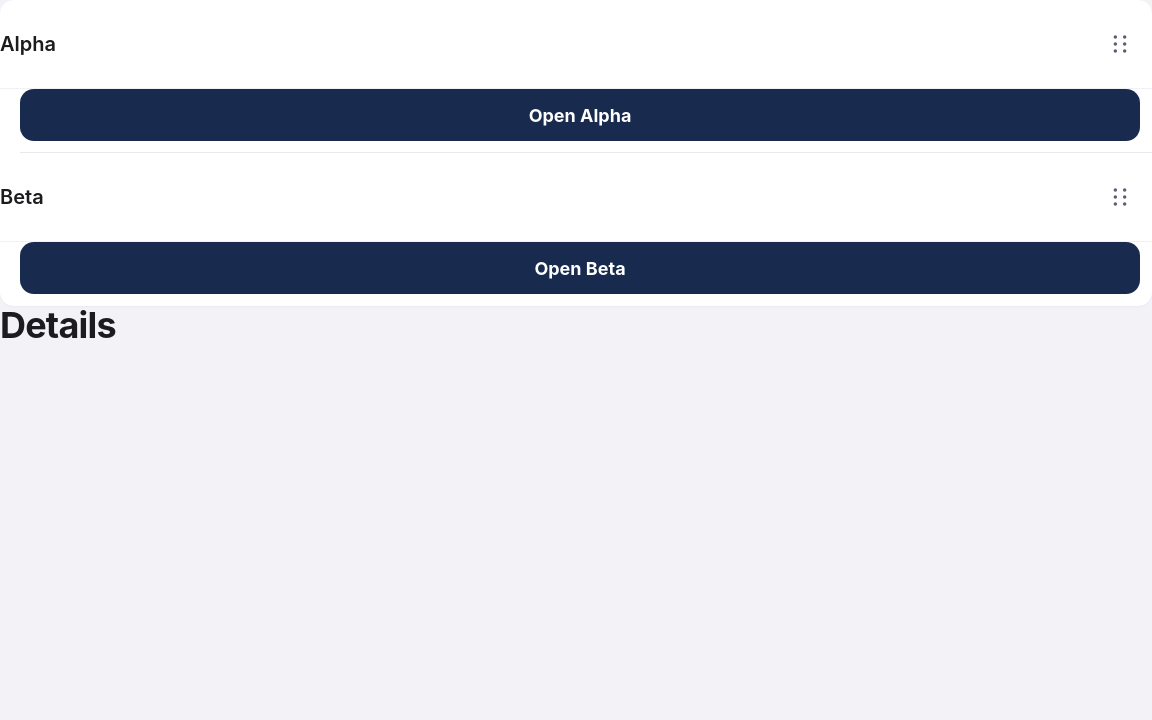
it: ReorderableList › returns focus to the grip after outside dismissal unless a control wins
Click the button named "Reorder Alpha": (1120, 44) 1094,18 -> 1146,70
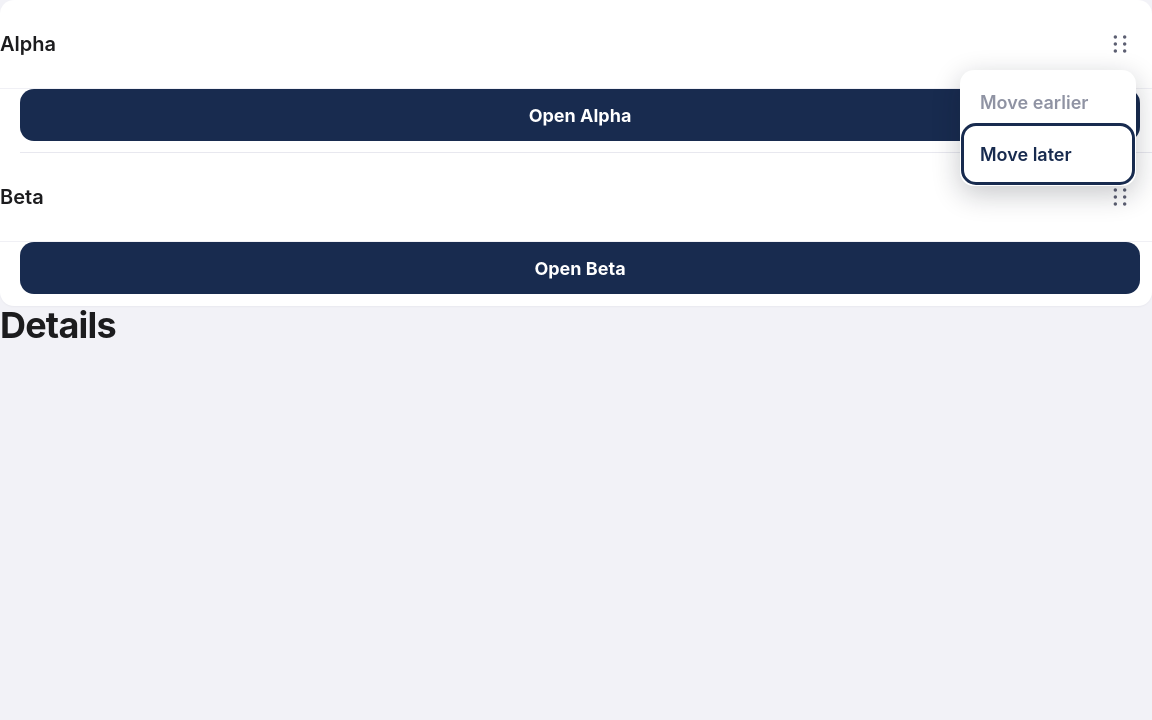
Expected: the menu is shown, 960,70 -> 1136,186
Press the mouse on the heading "Details": (58, 325) 0,303 -> 116,347
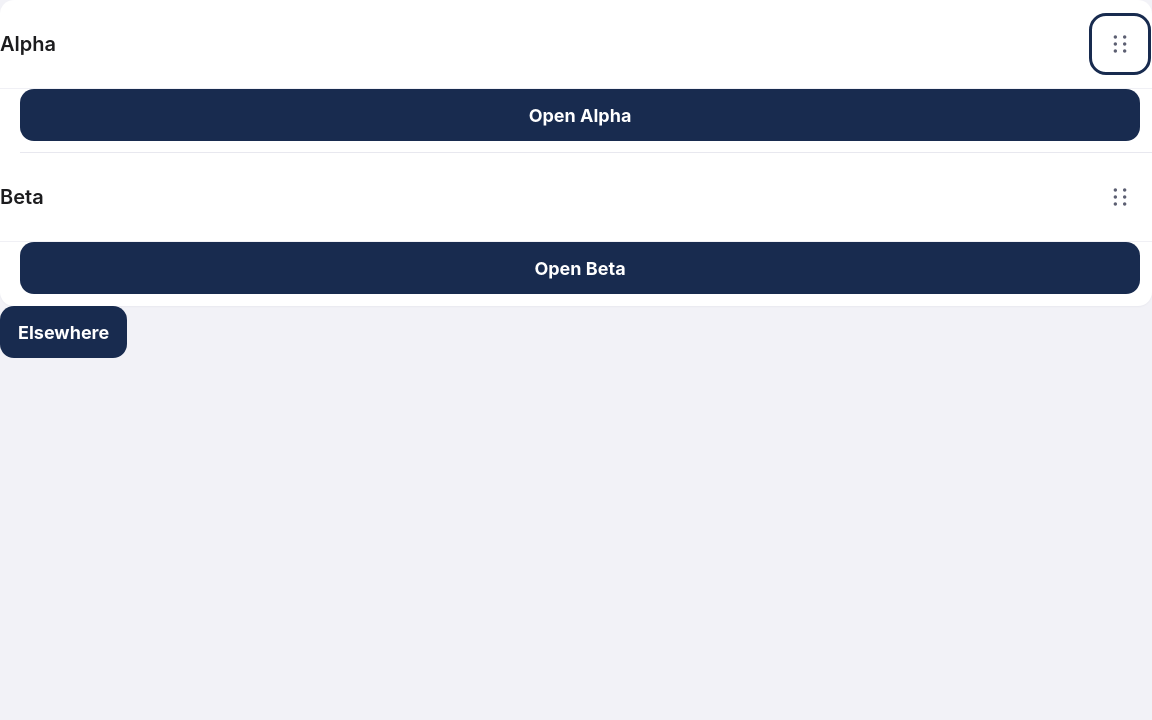
Click the button named "Reorder Alpha": (1120, 44) 1094,18 -> 1146,70
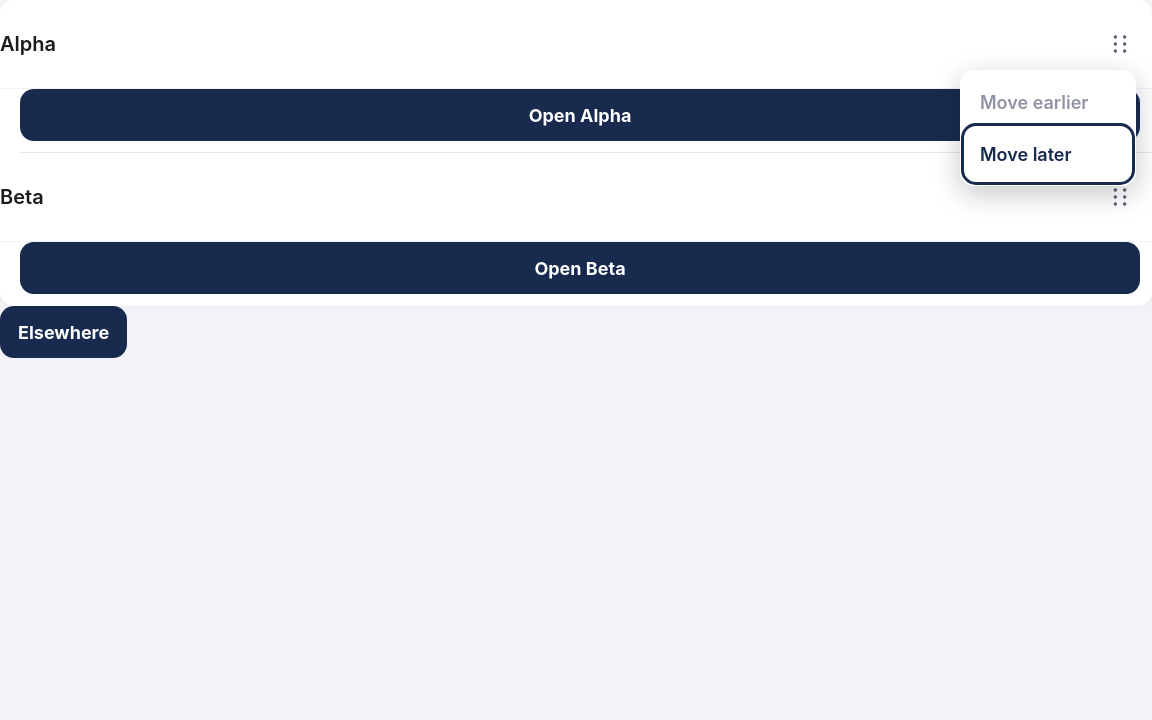
Expected: the menu is shown, 960,70 -> 1136,186
Press the mouse on the button "Elsewhere": (64, 332) 0,306 -> 127,358
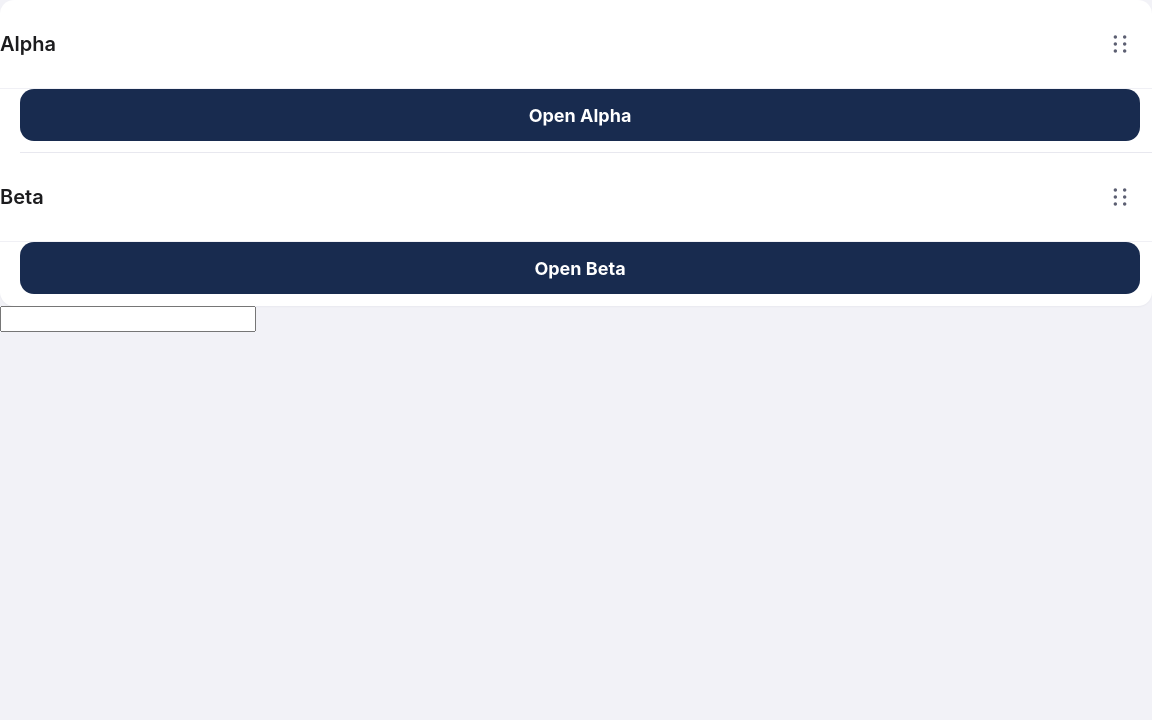
Expected: the menu is gone
Click the button named "Reorder Alpha": (1120, 44) 1094,18 -> 1146,70
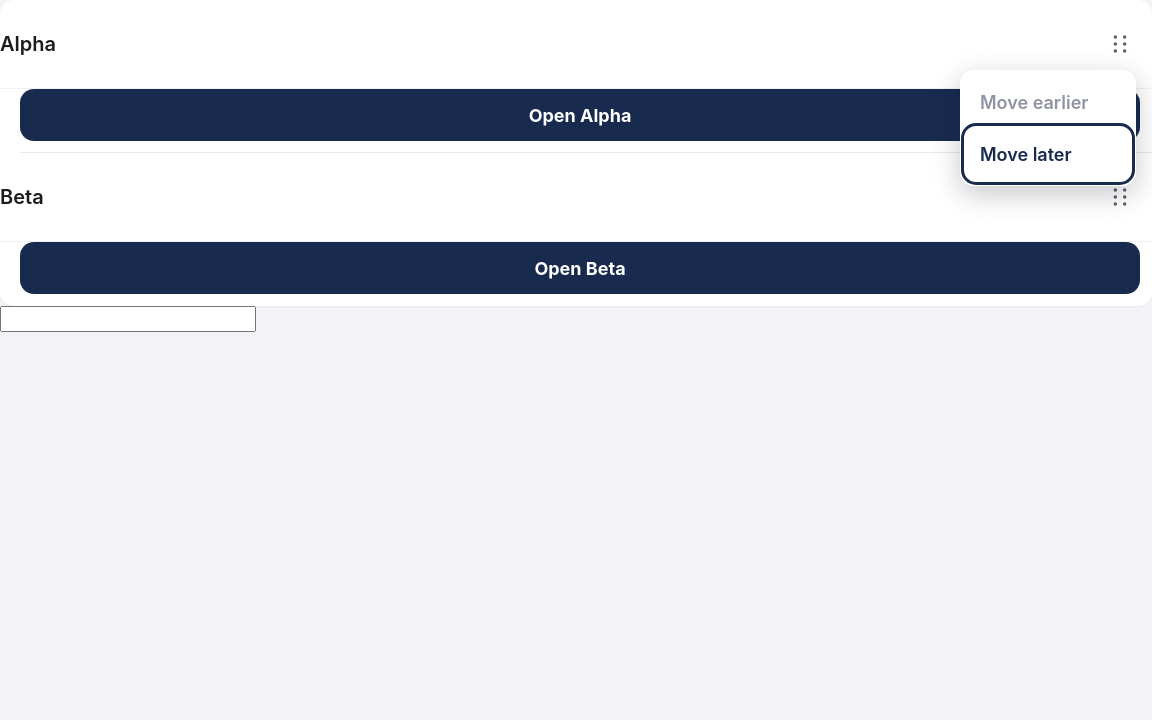
Expected: the menu is shown, 960,70 -> 1136,186
Press the mouse on the dialog: (128, 319) 0,306 -> 256,332
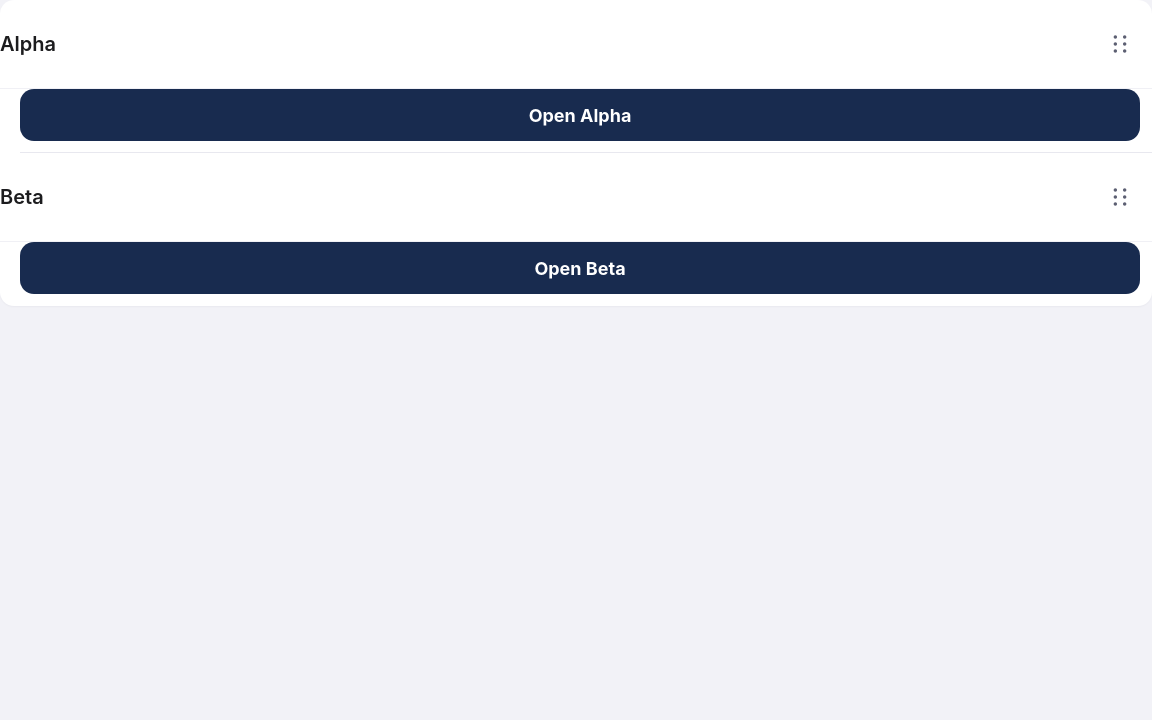
Expected: the menu is gone
